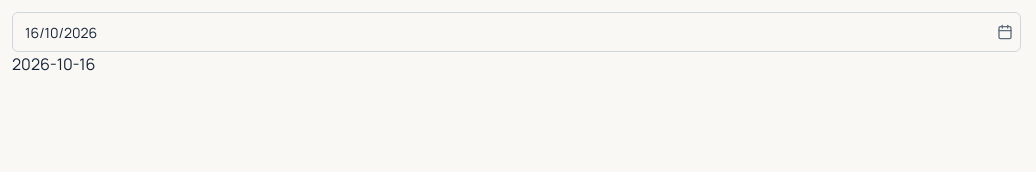
Test: DateInputBR › substitui a data anterior ao digitar ano de 2 dígitos
Clear the field with placeholder "dd/mm/aaaa" at (516, 32), box [12,12,1021,52]
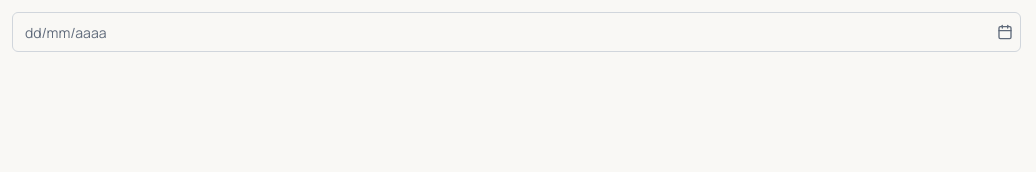
Type "22/11/26" into the field with placeholder "dd/mm/aaaa" at (516, 32), box [12,12,1021,52]
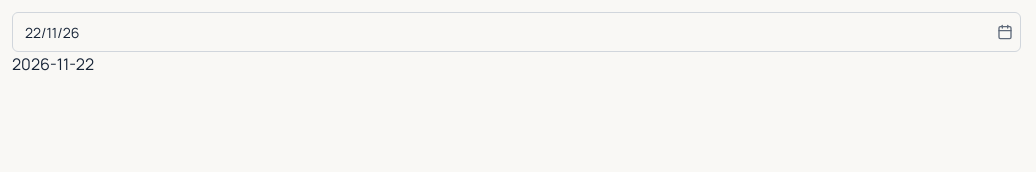
Check: the text with test id "iso" reads "2026-11-22", box [12,53,94,75]
Leave the field with placeholder "dd/mm/aaaa", box [12,12,1021,52]
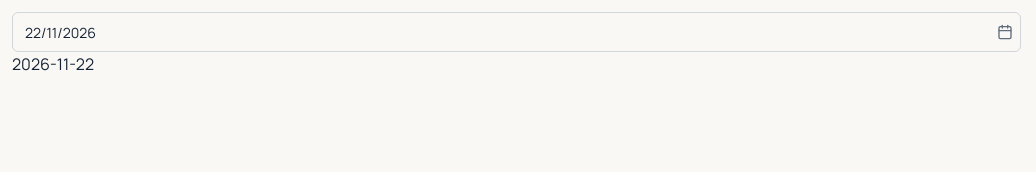
Check: the text with test id "iso" reads "2026-11-22", box [12,53,94,75]
Check: the field with placeholder "dd/mm/aaaa" holds "22/11/2026", box [12,12,1021,52]
